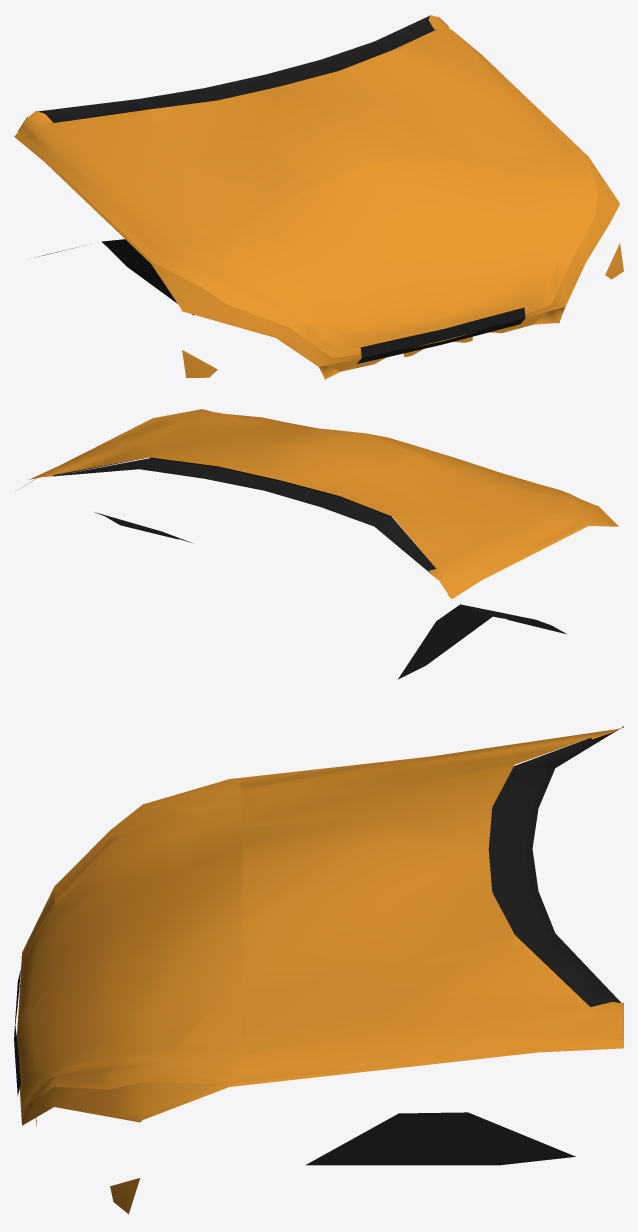
The model's file is protoHatch_hood_hayate.glb.
3 views of the same model, one above another, from view 1: azimuth 30°, elevation 25°; view 2: azimuth 150°, elevation 25°; view 3: azimuth 270°, elevation 25° (orthographic). The views are drawn at different scales.
Visible parts, largest first — view 1: hood_hayate; view 2: hood_hayate; view 3: hood_hayate.
Part boxes in pixels (bbox=[...]): hood_hayate: bbox=[14, 14, 623, 380]; hood_hayate: bbox=[15, 409, 618, 679]; hood_hayate: bbox=[14, 726, 623, 1214].
Bounding box in the file's own units: 1.42 × 0.4612 × 1.17.
